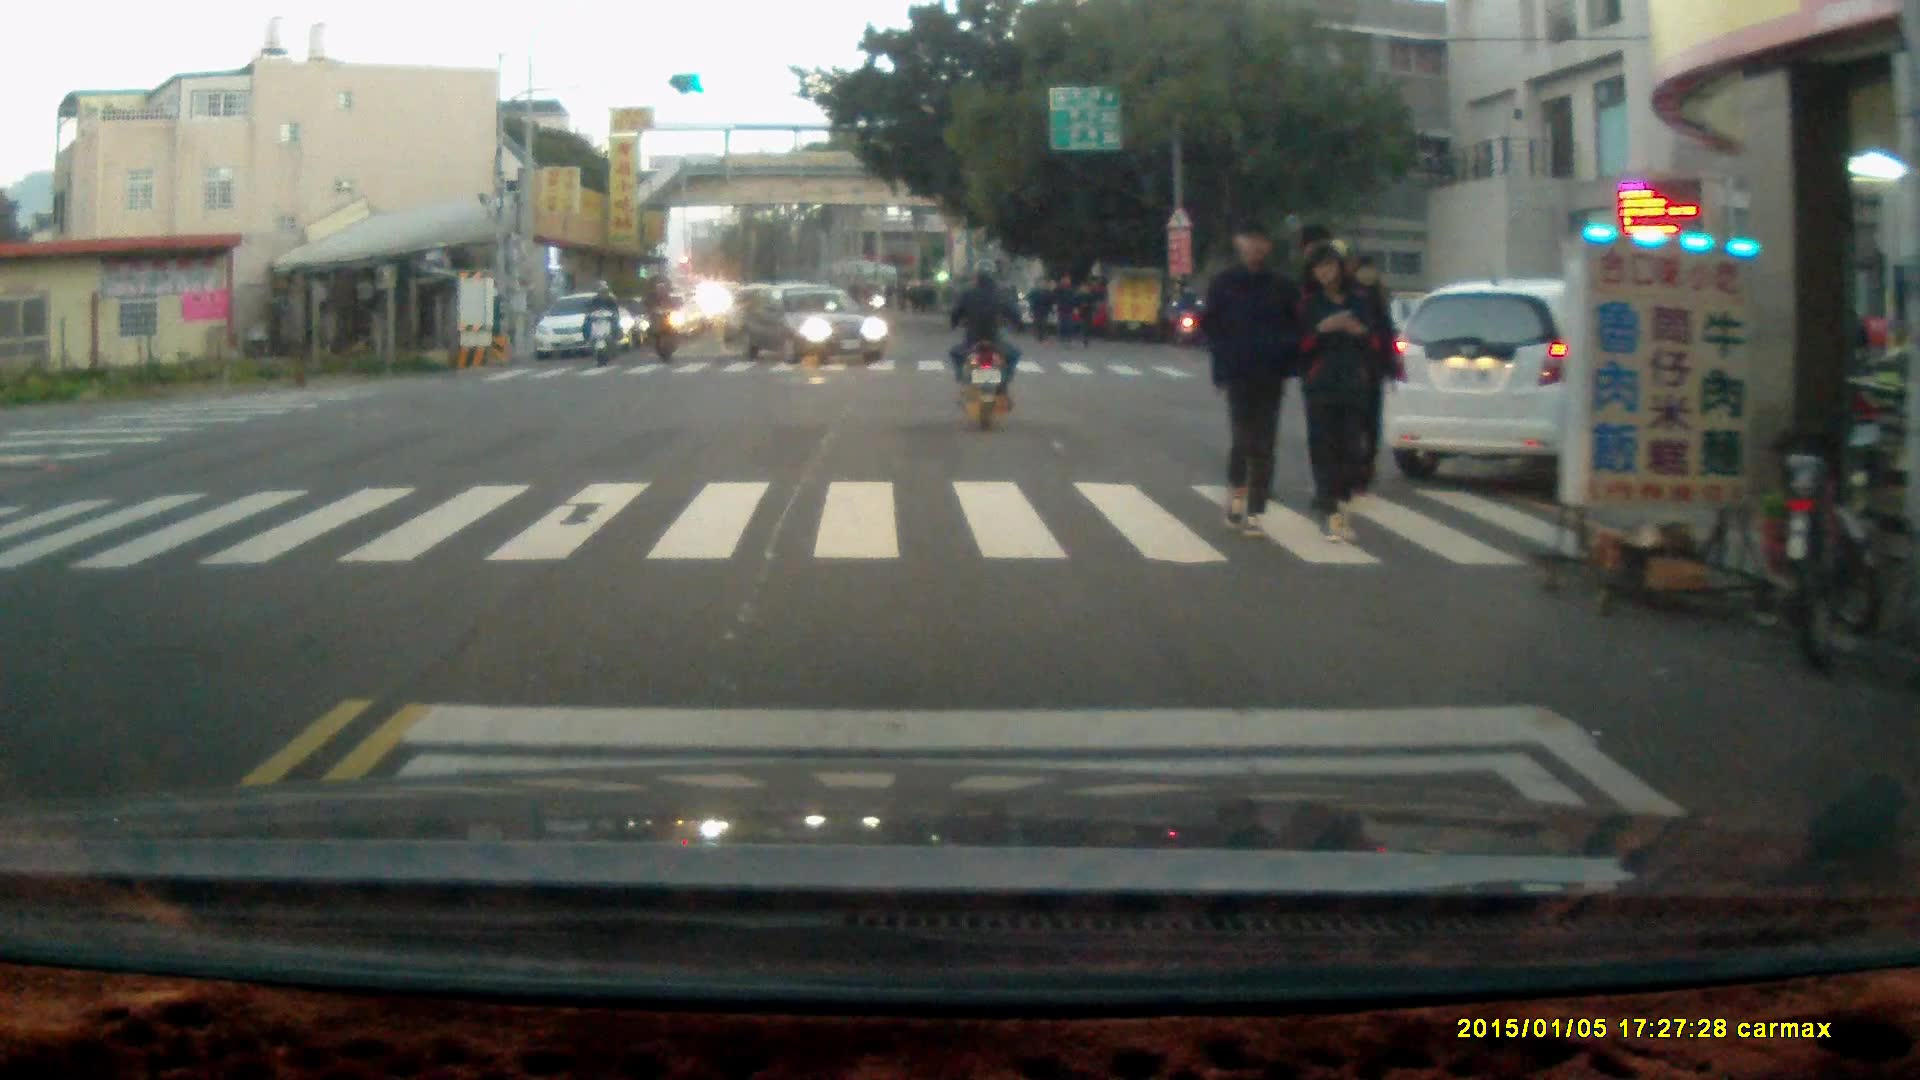pedestrian: (1200, 214, 1303, 539), (1292, 242, 1378, 545), (1049, 271, 1076, 349), (1070, 280, 1100, 350), (1025, 274, 1052, 345)
rider: (948, 255, 1018, 434), (641, 279, 682, 369), (582, 277, 620, 367), (1167, 285, 1207, 350)
vehicle: (1389, 281, 1824, 493), (733, 280, 889, 372), (536, 297, 637, 367)
